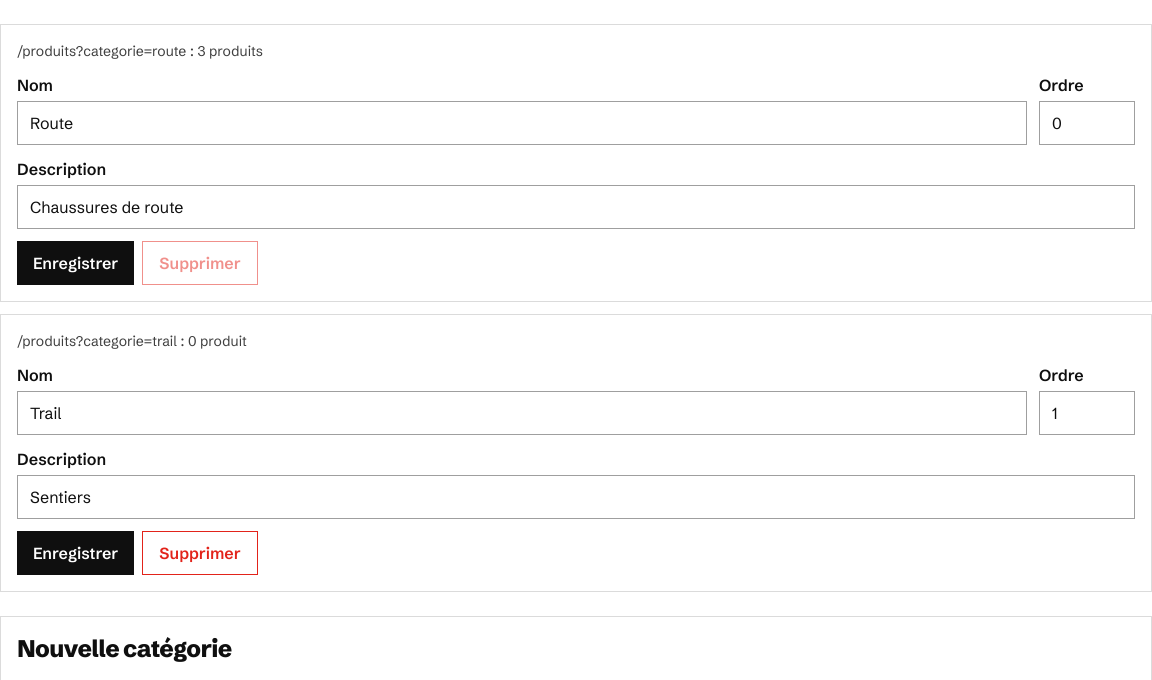
Test: CategoryManager (EA03) › modification : rien de changé donne une erreur sans appel
The width and height of the screenshot is (1152, 680).
Click the button "Enregistrer" below "route" at (76, 263), box [17, 241, 134, 285]
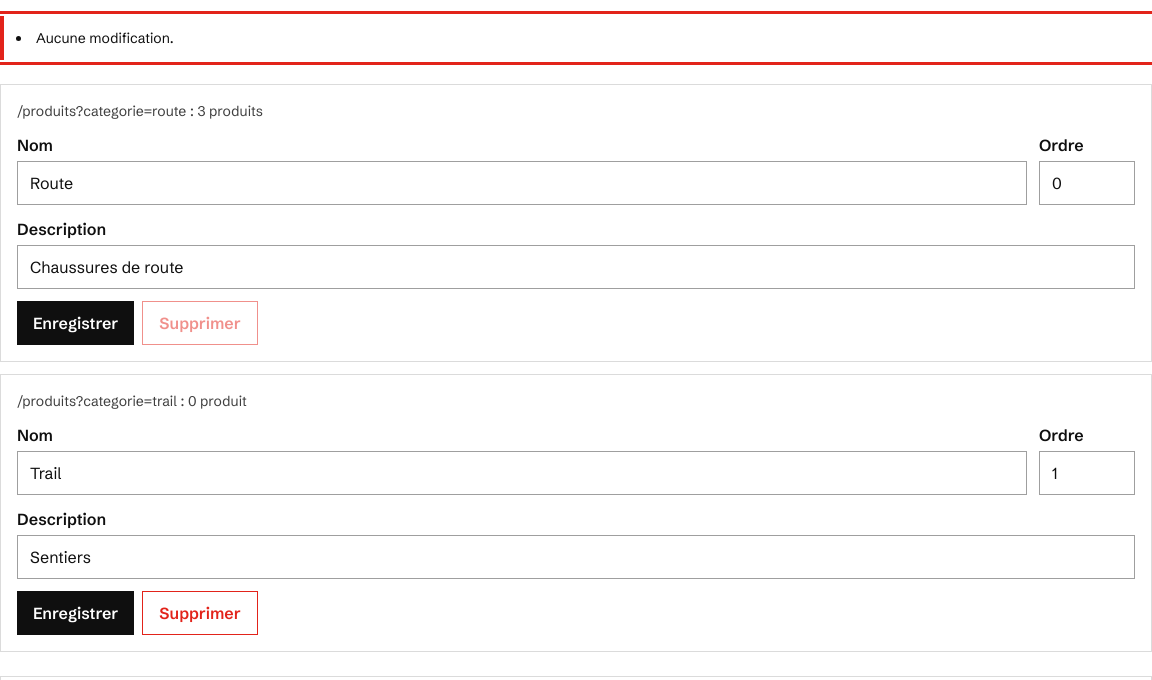
Expected: the message reads "Aucune modification.", [36, 29, 174, 47]
